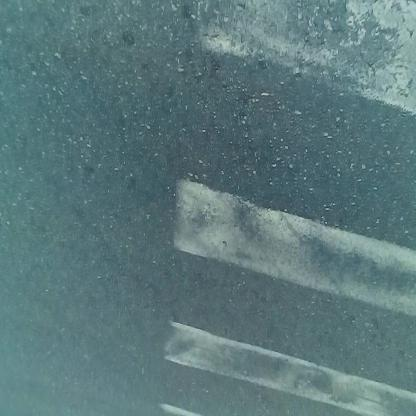crosswalk: (136, 2, 416, 407)
